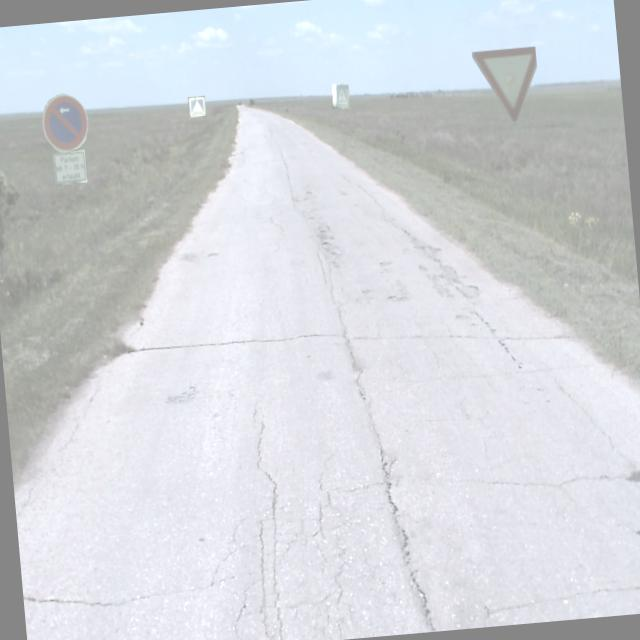road: (14, 102, 640, 640)
